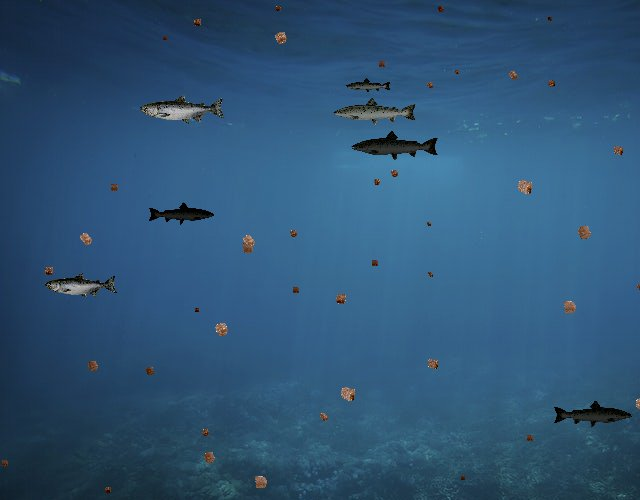Fish: (351, 129, 441, 162), (332, 96, 418, 127), (140, 94, 226, 125), (553, 399, 634, 428), (46, 273, 119, 299), (147, 202, 215, 226), (345, 77, 392, 94)
Pellet: (247, 468, 274, 495), (503, 65, 523, 85), (189, 14, 206, 31), (368, 256, 382, 270), (452, 66, 462, 76)
